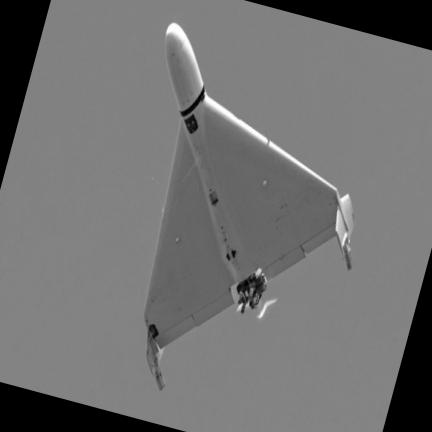Shahed: (143, 24, 353, 389)
